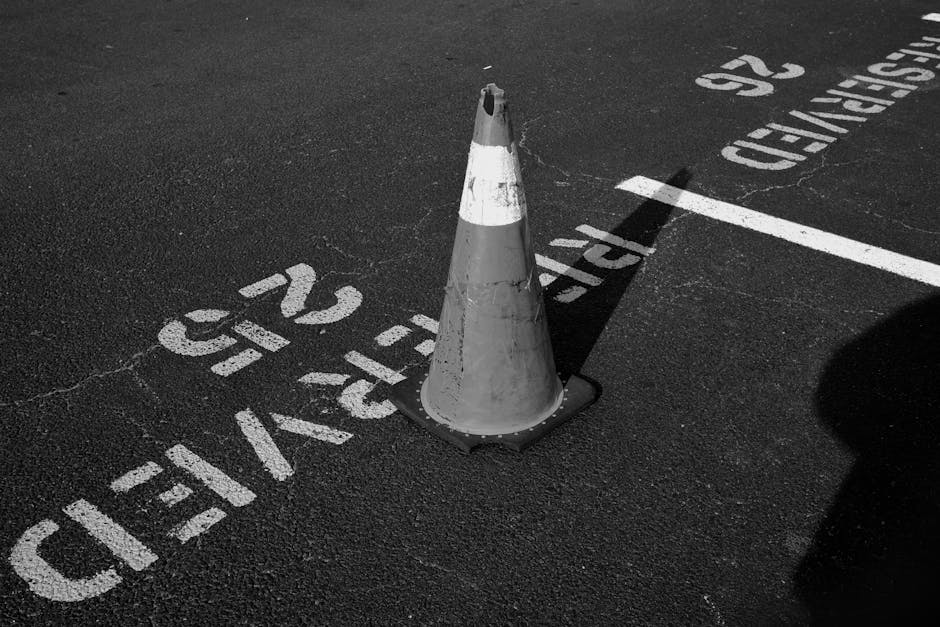traffic_cone: (387, 81, 602, 454)
